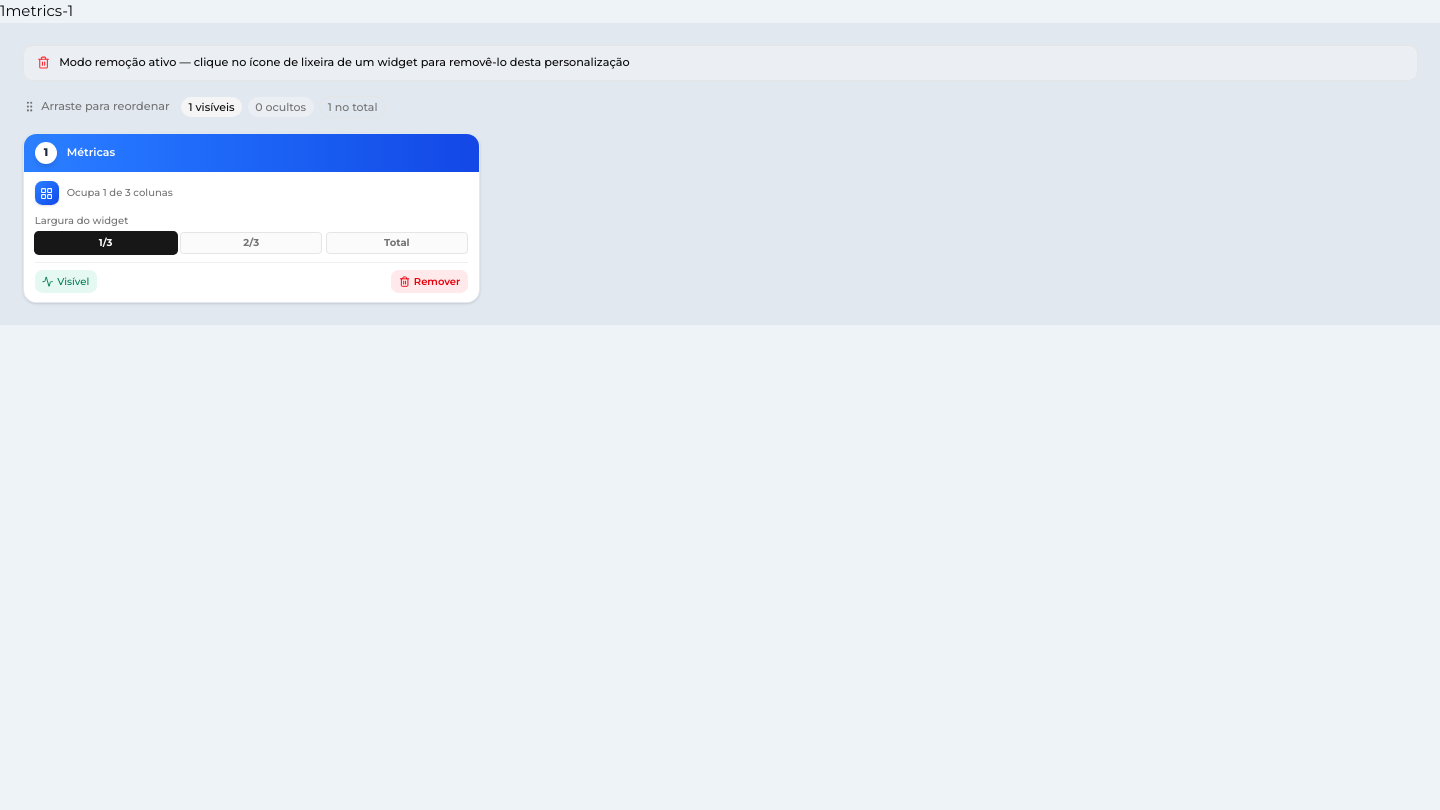
DashboardWidgetEditorBody — remoção de widget (confirmação dupla) › widget removido pode ser restaurado pelo modo 'Adicionar' (mesmo mecanismo já existente)
Later steps or results of the test are not shown.
Click the button with aria-label "remover widget métricas": point(430, 281) [391,270,468,292]
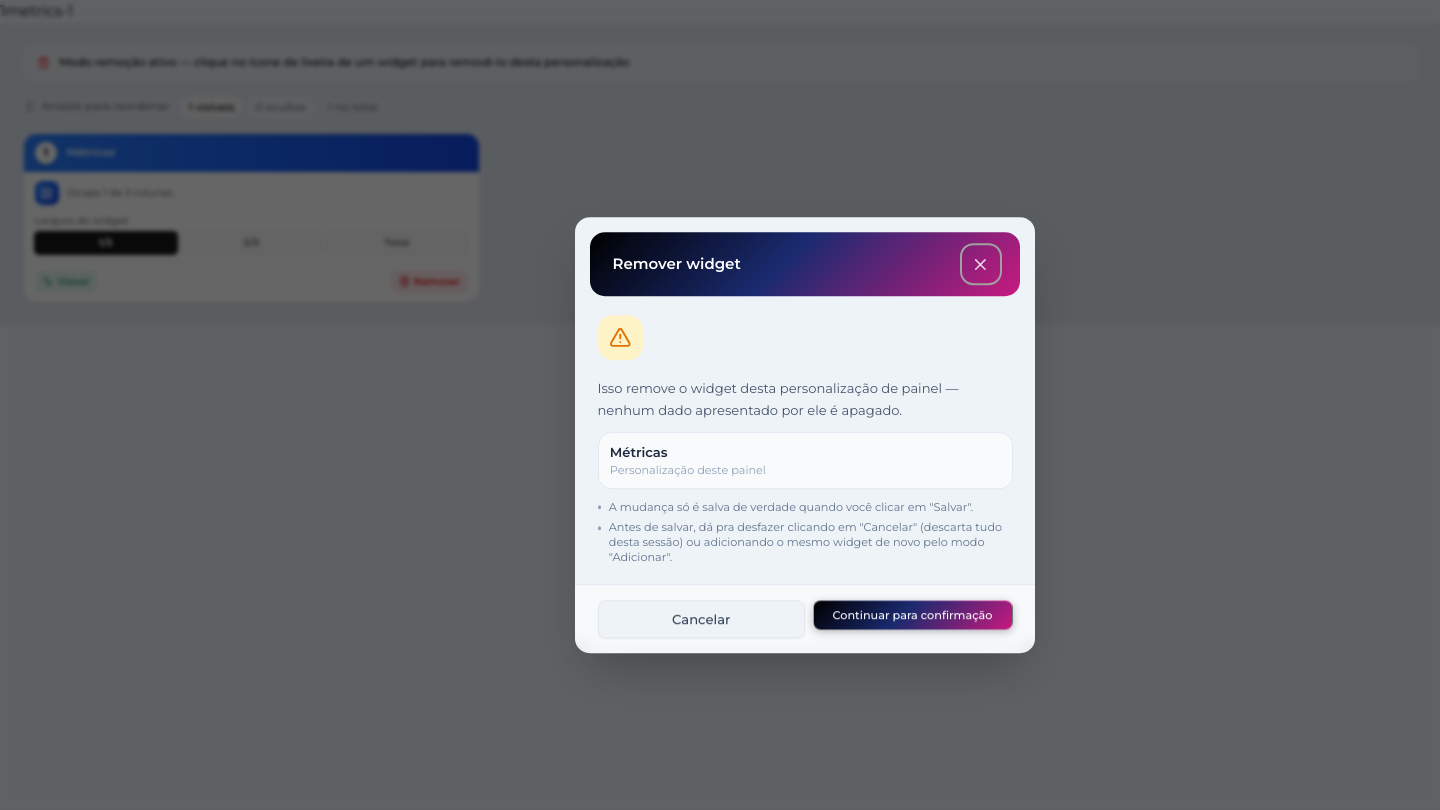
Click the button "Continuar para confirmação": point(912, 615) [812,600,1012,630]
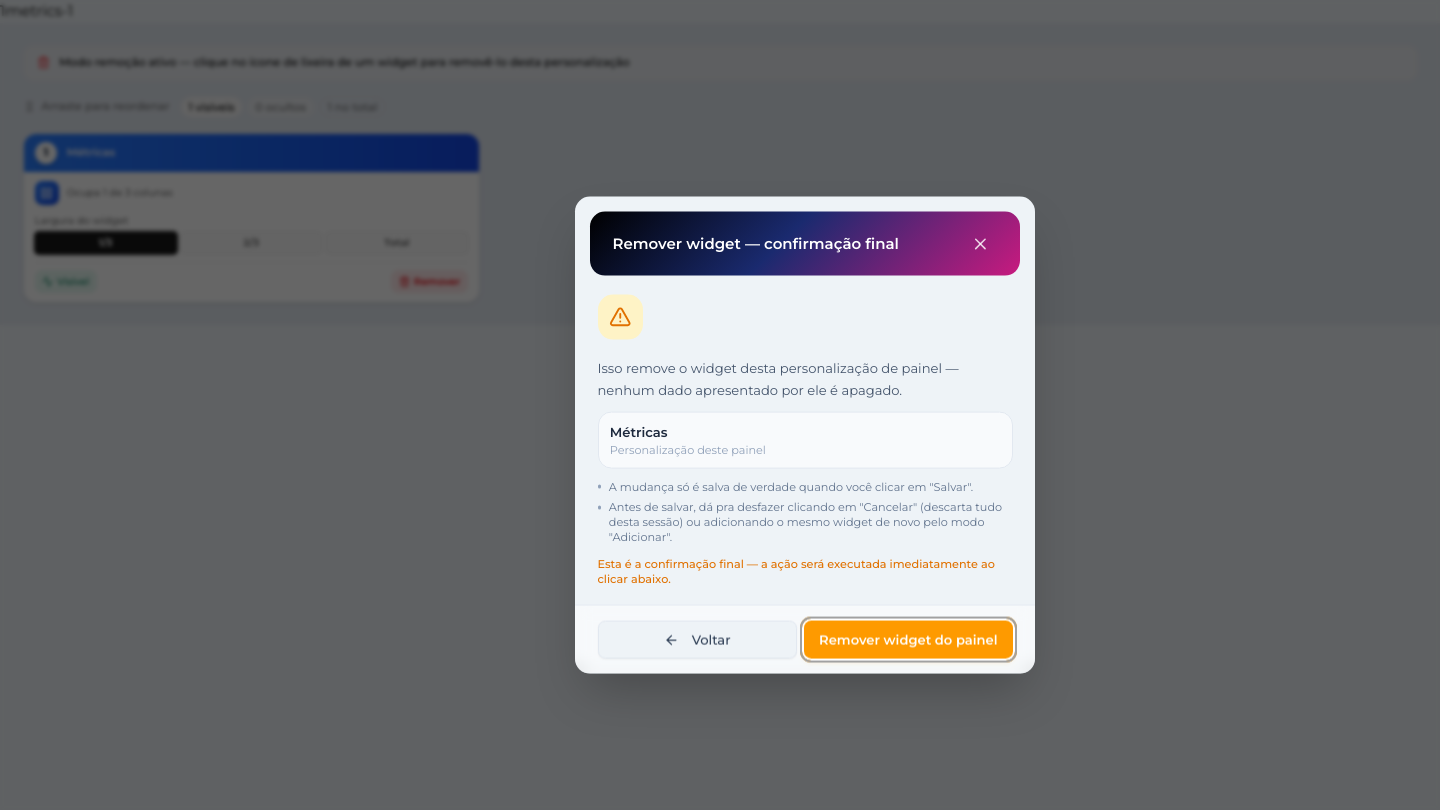
Click the button "Remover widget do painel": point(908, 640) [804,621,1012,658]
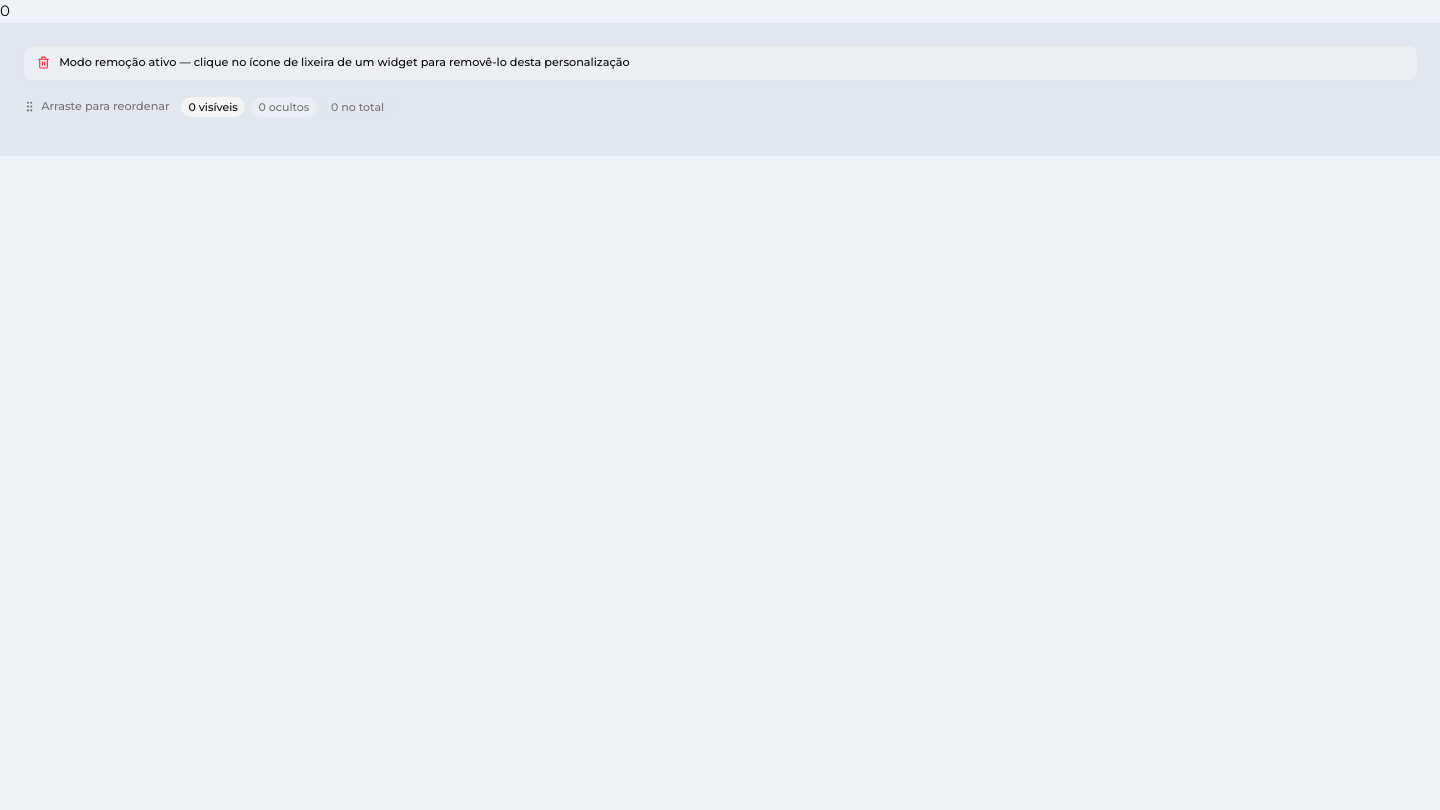
Now the text with test id "draft-count" reads "0", box [0,1,10,20]
